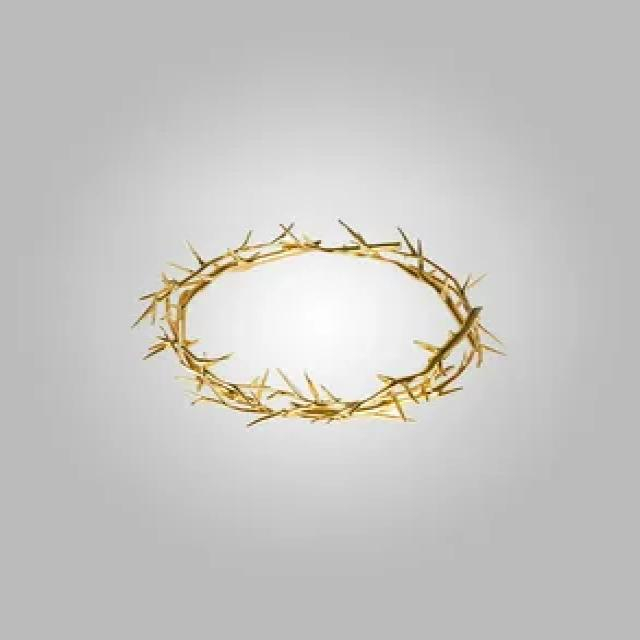crown: (147, 224, 498, 434)
